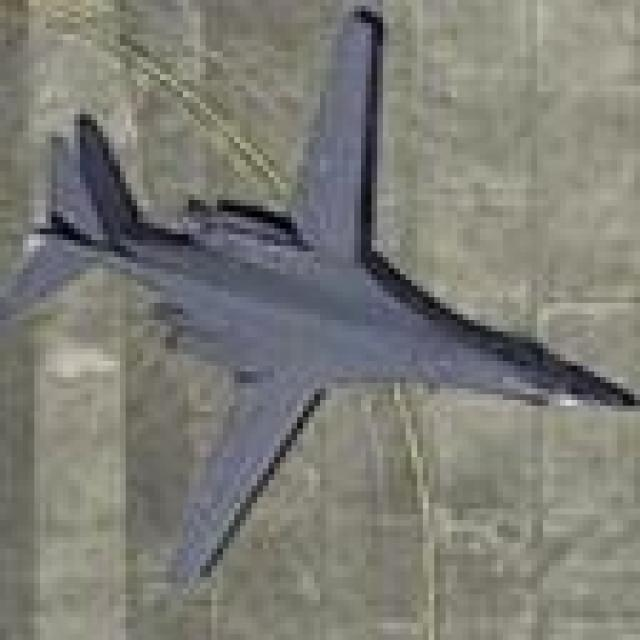B-1_TopDown: (0, 0, 634, 588)
